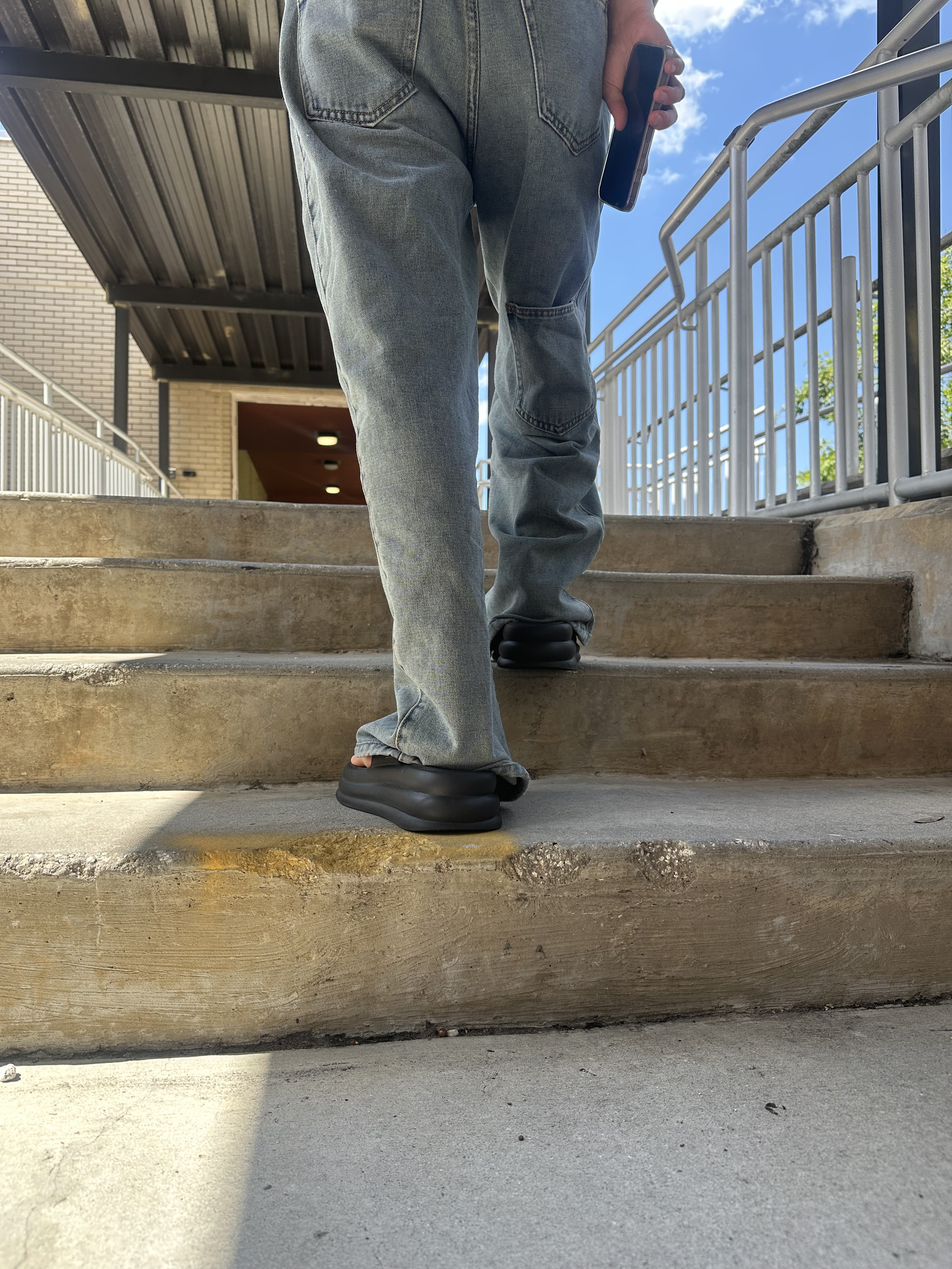stairs: (4, 489, 952, 1061)
